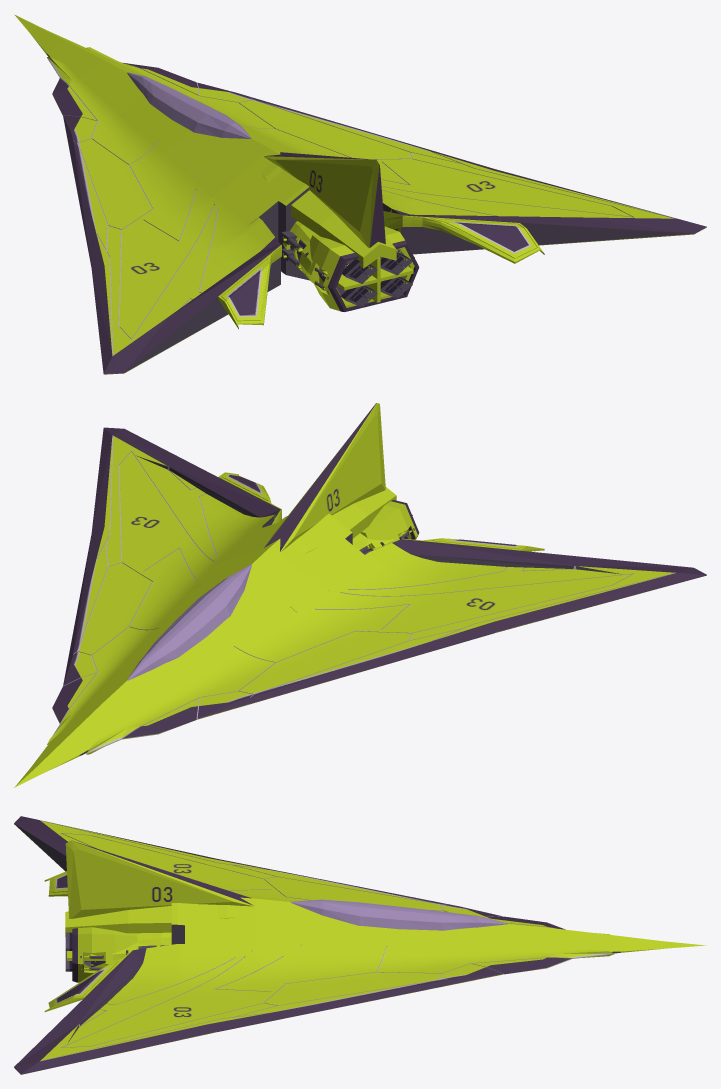
The model's file is C_lime.glb.
3 views of the same model, one above another, from view 1: azimuth 30°, elevation 25°; view 2: azimuth 150°, elevation 25°; view 3: azimuth 270°, elevation 25° (orthographic). The views are drawn at different scales.
Parts seen in each view (by area): view 1: AF_MAIN_WING_L_01, AF_MAIN_WING_R_01, AF_BODY_01, AF_MATCH_TAIL_CENTER, AF_REAR_WING_R2_R_flush_trailing_extension_no_intrusion, AF_DOME_CENTER_01, AF_MATCH_AFT_SADDLE, AF_REAR_WING_R2_R_flush_trailing_extension_no_intrusion_L, AF_ENGINE_E3_common_hexagonal_armored_housing, AF_ENGINE_E3_common_mouth_beveled_rim, AF_ENGINE_E3_single_bell_distribution_housing, AF_ENGINE_E3_central_horizontal_cell_web; view 2: AF_MAIN_WING_L_01, AF_MAIN_WING_R_01, AF_BODY_01, AF_MATCH_TAIL_CENTER, AF_DOME_CENTER_01, AF_MATCH_AFT_SADDLE, AF_ENGINE_E3_common_hexagonal_armored_housing, AF_REAR_WING_R2_R_flush_trailing_extension_no_intrusion, AF_REAR_WING_R2_R_flush_trailing_extension_no_intrusion_L; view 3: AF_MAIN_WING_R_01, AF_BODY_01, AF_MAIN_WING_L_01, AF_MATCH_TAIL_CENTER, AF_DOME_CENTER_01, AF_MATCH_AFT_SADDLE, AF_ENGINE_E3_common_hexagonal_armored_housing, AF_REAR_WING_R2_R_flush_trailing_extension_no_intrusion, AF_ENGINE_E3_single_bell_distribution_housing, AF_REAR_WING_R2_R_flush_trailing_extension_no_intrusion_L.
Boxes of the visible parts, box(x1,y1,x2,y2) form: AF_MAIN_WING_L_01: box(47, 56, 280, 374); AF_MAIN_WING_R_01: box(86, 47, 706, 254); AF_BODY_01: box(14, 14, 309, 280); AF_MATCH_TAIL_CENTER: box(264, 152, 385, 247); AF_REAR_WING_R2_R_flush_trailing_extension_no_intrusion: box(383, 211, 544, 263); AF_DOME_CENTER_01: box(127, 72, 251, 138); AF_MATCH_AFT_SADDLE: box(261, 162, 396, 268); AF_REAR_WING_R2_R_flush_trailing_extension_no_intrusion_L: box(218, 245, 281, 329); AF_ENGINE_E3_common_hexagonal_armored_housing: box(307, 226, 414, 310); AF_ENGINE_E3_common_mouth_beveled_rim: box(327, 240, 419, 311); AF_ENGINE_E3_single_bell_distribution_housing: box(282, 221, 315, 283); AF_ENGINE_E3_central_horizontal_cell_web: box(322, 266, 413, 290); AF_MAIN_WING_L_01: box(86, 539, 706, 754); AF_MAIN_WING_R_01: box(47, 427, 280, 744); AF_BODY_01: box(14, 513, 375, 787); AF_MATCH_TAIL_CENTER: box(264, 403, 385, 552); AF_DOME_CENTER_01: box(127, 564, 251, 680); AF_MATCH_AFT_SADDLE: box(261, 487, 396, 554); AF_ENGINE_E3_common_hexagonal_armored_housing: box(360, 501, 417, 548); AF_REAR_WING_R2_R_flush_trailing_extension_no_intrusion: box(218, 472, 281, 524); AF_REAR_WING_R2_R_flush_trailing_extension_no_intrusion_L: box(402, 538, 544, 551); AF_MAIN_WING_R_01: box(14, 944, 614, 1074); AF_BODY_01: box(171, 897, 706, 957); AF_MAIN_WING_L_01: box(14, 816, 610, 934); AF_MATCH_TAIL_CENTER: box(65, 840, 254, 918); AF_DOME_CENTER_01: box(290, 899, 507, 930); AF_MATCH_AFT_SADDLE: box(65, 905, 238, 936); AF_ENGINE_E3_common_hexagonal_armored_housing: box(78, 927, 137, 982); AF_REAR_WING_R2_R_flush_trailing_extension_no_intrusion: box(44, 950, 132, 1011); AF_ENGINE_E3_single_bell_distribution_housing: box(112, 932, 171, 960); AF_REAR_WING_R2_R_flush_trailing_extension_no_intrusion_L: box(44, 871, 67, 896).
Bounding box in the file's own units: 12.4 × 3.23 × 14.07.
19 materials, 5 textured.
